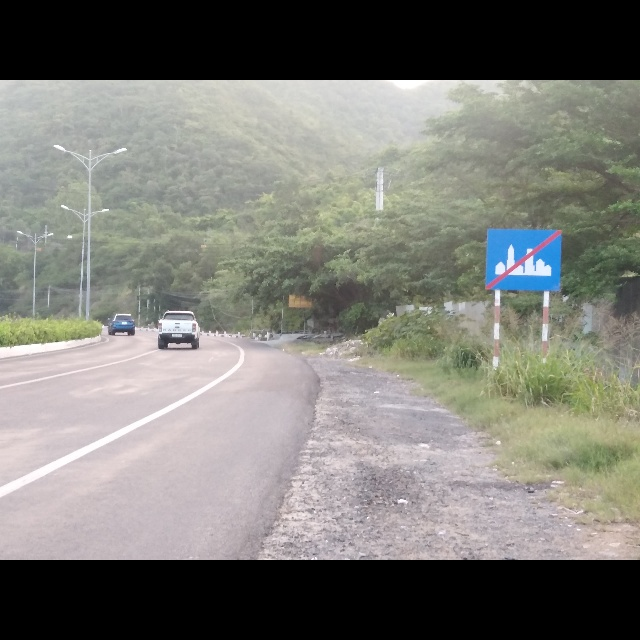Hết khu đông dân cư: (484, 226, 563, 293)
